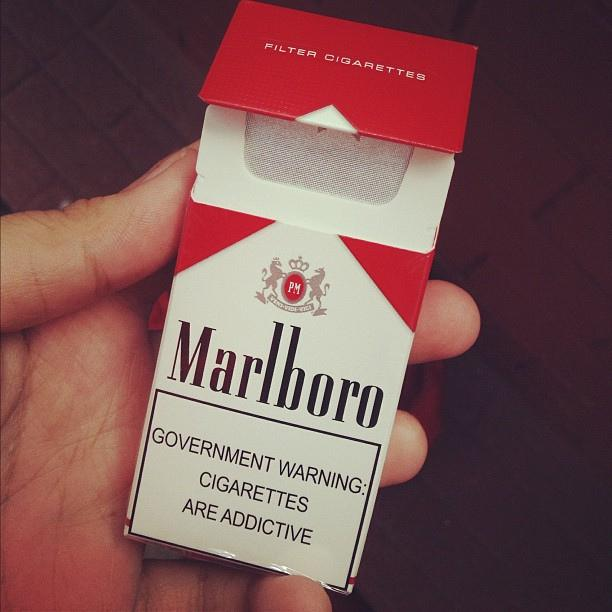marlboro_red: (154, 78, 415, 544)
